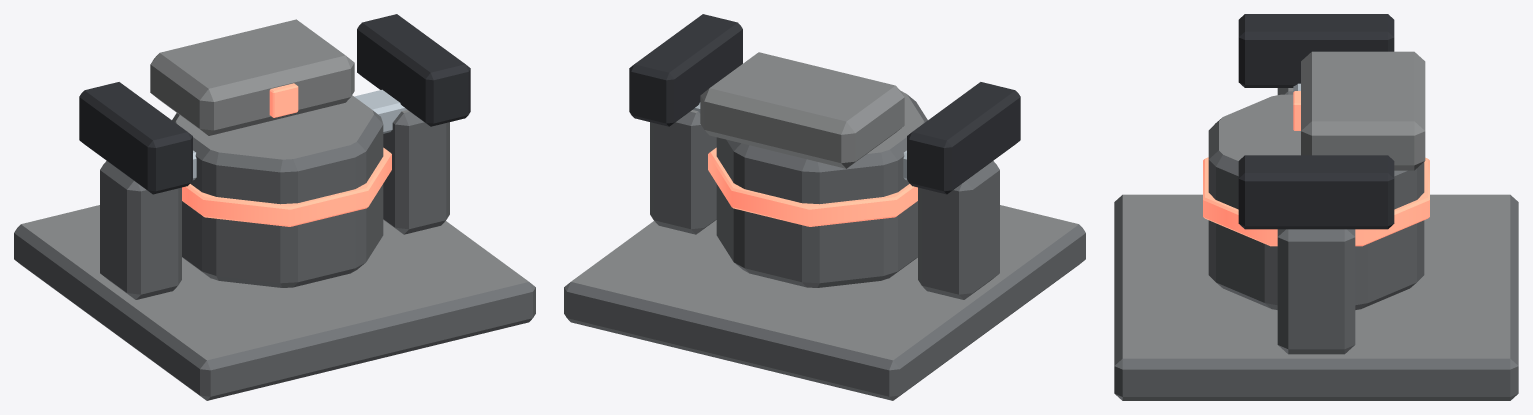
File: R4X_OffensiveTurretDeployer_LOD1.glb
3 renders of one model, left to right at view 1: azimuth 30°, elevation 25°; view 2: azimuth 150°, elevation 25°; view 3: azimuth 270°, elevation 25°, orthographic. The views are drawn at different scales.
Parts seen in each view (by area): view 1: R4X_OffensiveTurretDeployer_LOD1; view 2: R4X_OffensiveTurretDeployer_LOD1; view 3: R4X_OffensiveTurretDeployer_LOD1.
Boxes of the visible parts, left/top/right/bottom form: R4X_OffensiveTurretDeployer_LOD1: left=14, top=14, right=535, bottom=400; R4X_OffensiveTurretDeployer_LOD1: left=564, top=14, right=1085, bottom=400; R4X_OffensiveTurretDeployer_LOD1: left=1114, top=14, right=1518, bottom=400.
Bounding box in the file's own units: 0.52 × 0.33 × 0.52.
